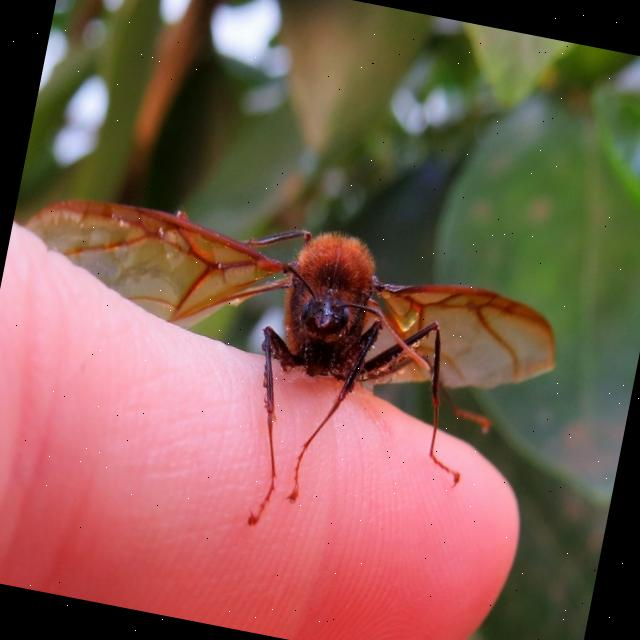Alive-Male-Alate: (0, 171, 576, 580)
